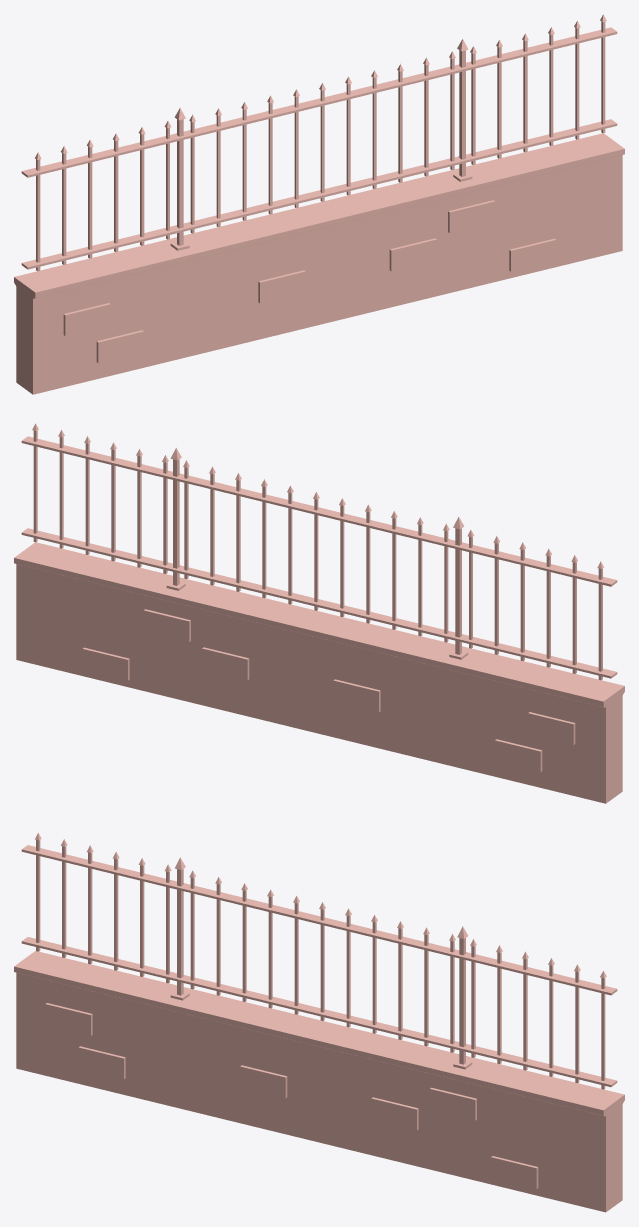
The model's file is Mega_Asset_s_Pack_Cube_214.FBX.
3 views of the same model, one above another, from view 1: azimuth 30°, elevation 25°; view 2: azimuth 150°, elevation 25°; view 3: azimuth 330°, elevation 25° (orthographic).
Visible parts, largest first — view 1: Mega_Asset_s_Pack_Cube_214; view 2: Mega_Asset_s_Pack_Cube_214; view 3: Mega_Asset_s_Pack_Cube_214.
Boxes of the visible parts, x1,y1,x2,y2 form: Mega_Asset_s_Pack_Cube_214: [14, 14, 624, 394]; Mega_Asset_s_Pack_Cube_214: [14, 423, 624, 803]; Mega_Asset_s_Pack_Cube_214: [14, 833, 624, 1212].
Size of what is drawn, in the model's own units: 663 by 41.88 by 262.
